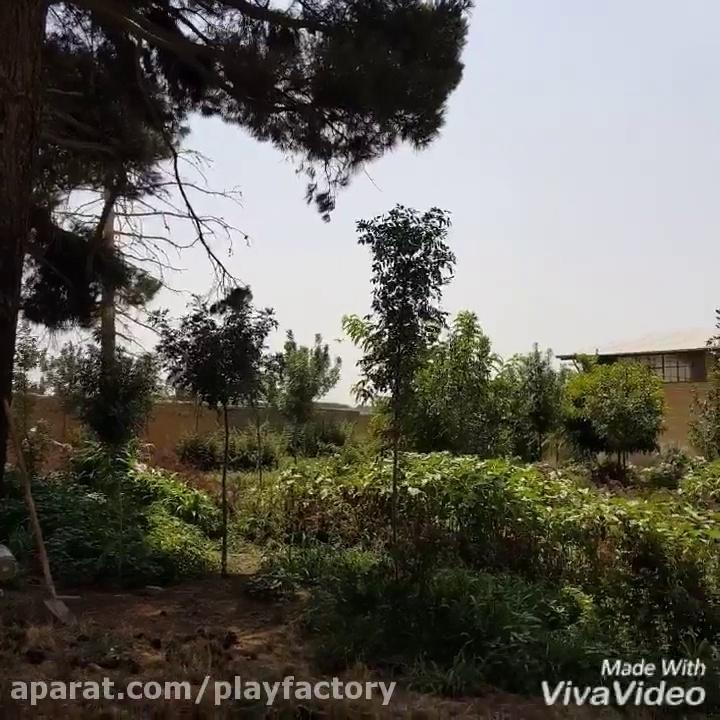drone: (331, 333, 345, 345)
